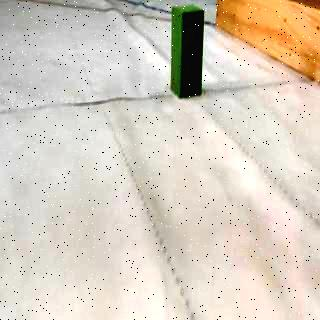greenbox: (170, 3, 206, 98)
